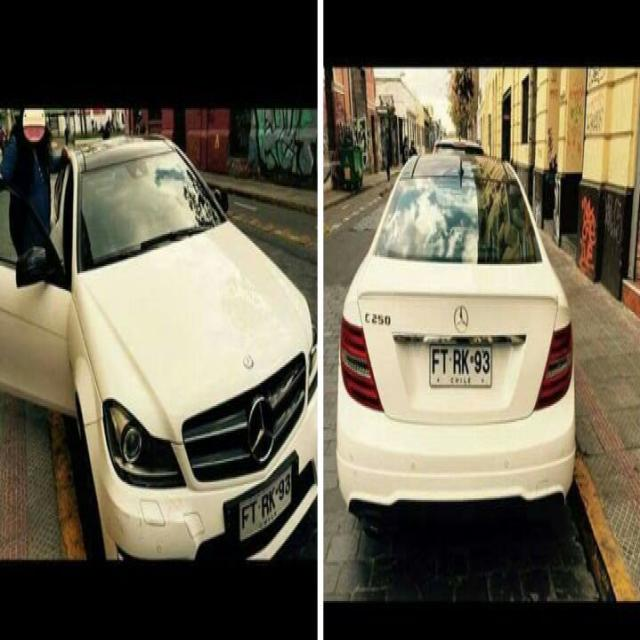patente: (237, 461, 293, 542), (428, 341, 492, 388)
